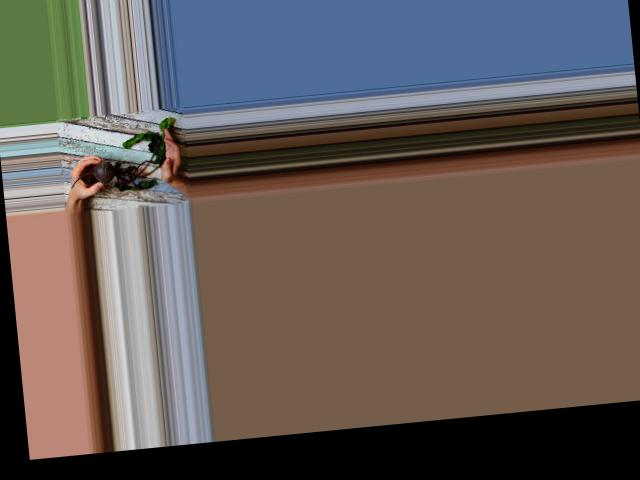beet: (65, 116, 180, 195)
